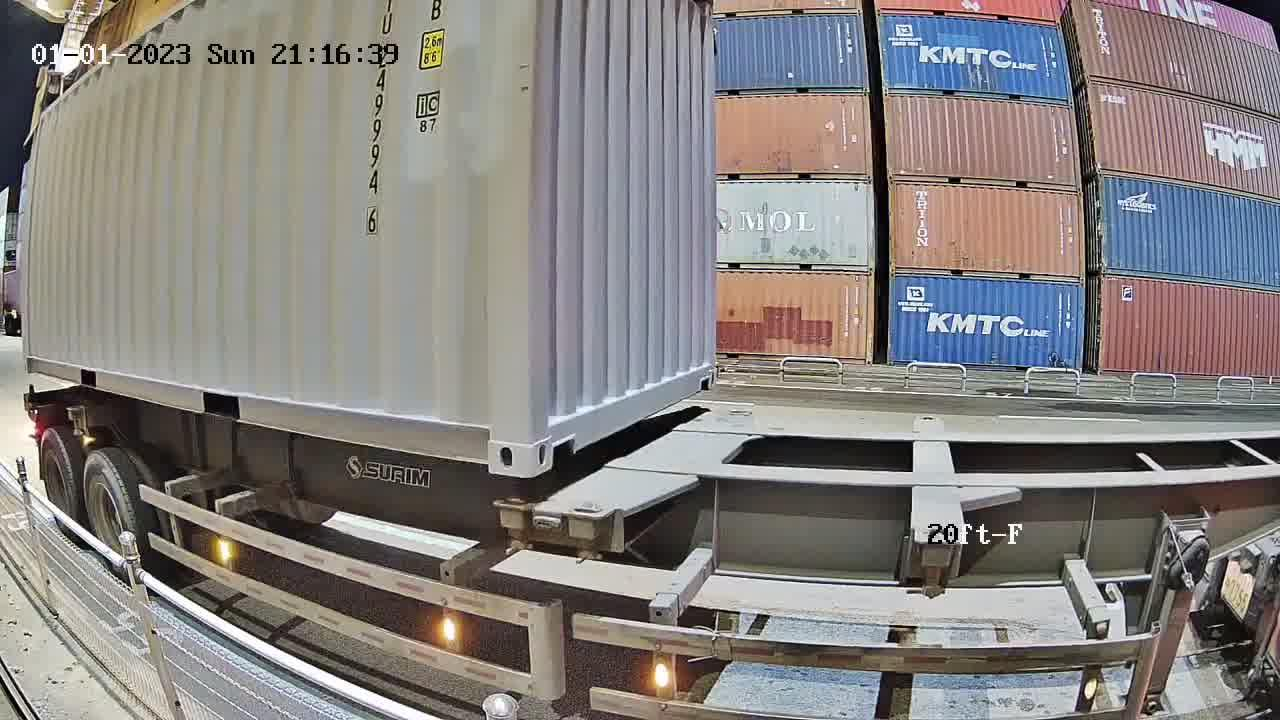Cone: (495, 488, 536, 558)
Hole_L: (533, 375, 593, 475)
Hole_R: (458, 388, 532, 480)
Tire: (80, 456, 139, 551), (37, 427, 79, 522)
